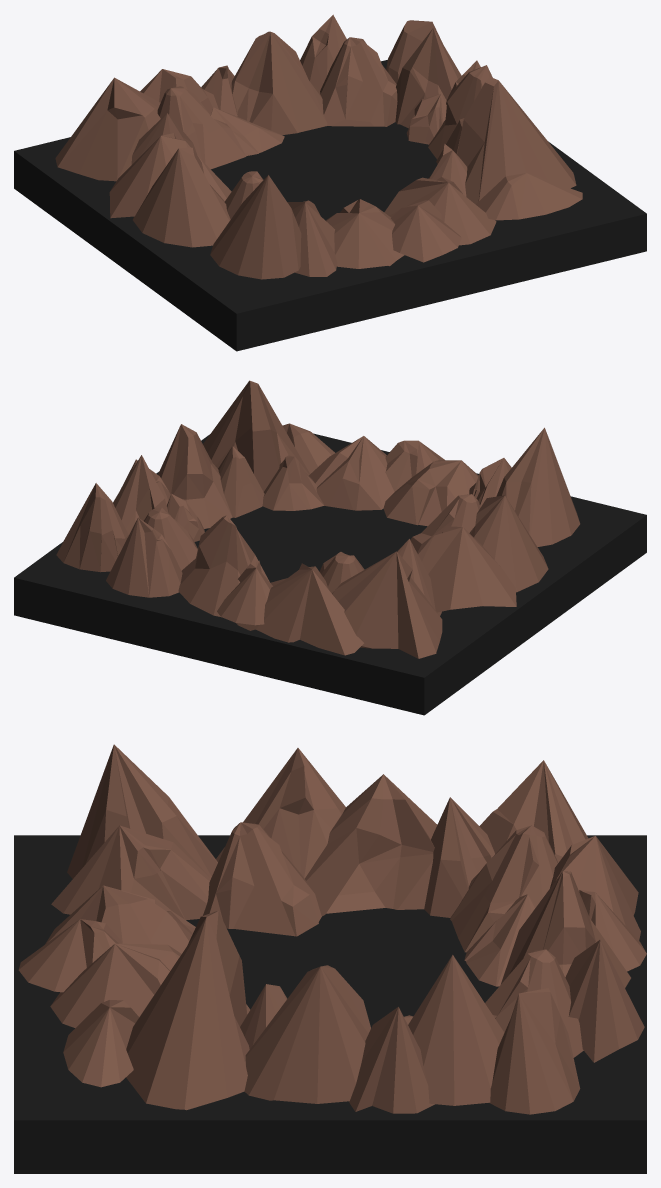
File: mountains.glb
The picture shows the model from 3 angles, top to bottom: view 1: azimuth 30°, elevation 25°; view 2: azimuth 150°, elevation 25°; view 3: azimuth 270°, elevation 25°; orthographic projection. The views are drawn at different scales.
Visible parts, largest first — view 1: group1758577294; view 2: group1758577294; view 3: group1758577294.
Part boxes in pixels (box(x1,y1,x2,y2)): group1758577294: box(14, 14, 646, 351); group1758577294: box(14, 380, 646, 715); group1758577294: box(14, 744, 646, 1173).
Size of the model in its own units: 8.89 by 2.96 by 8.35.
